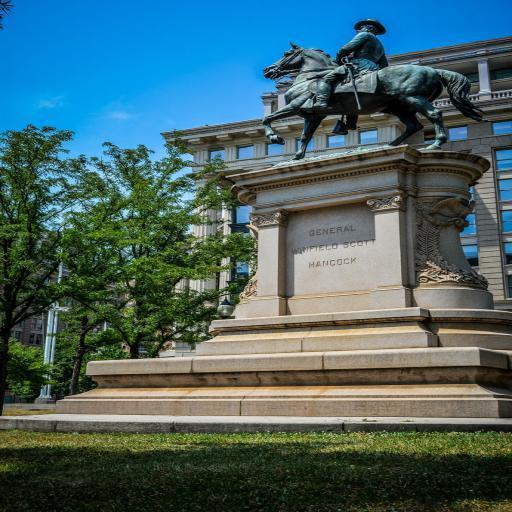horse: (260, 40, 490, 160)
